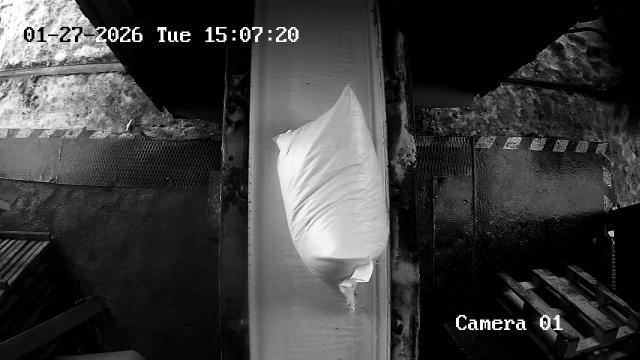bag: (276, 86, 384, 309)
